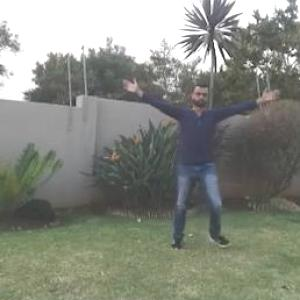takeoff: (122, 73, 266, 242)
